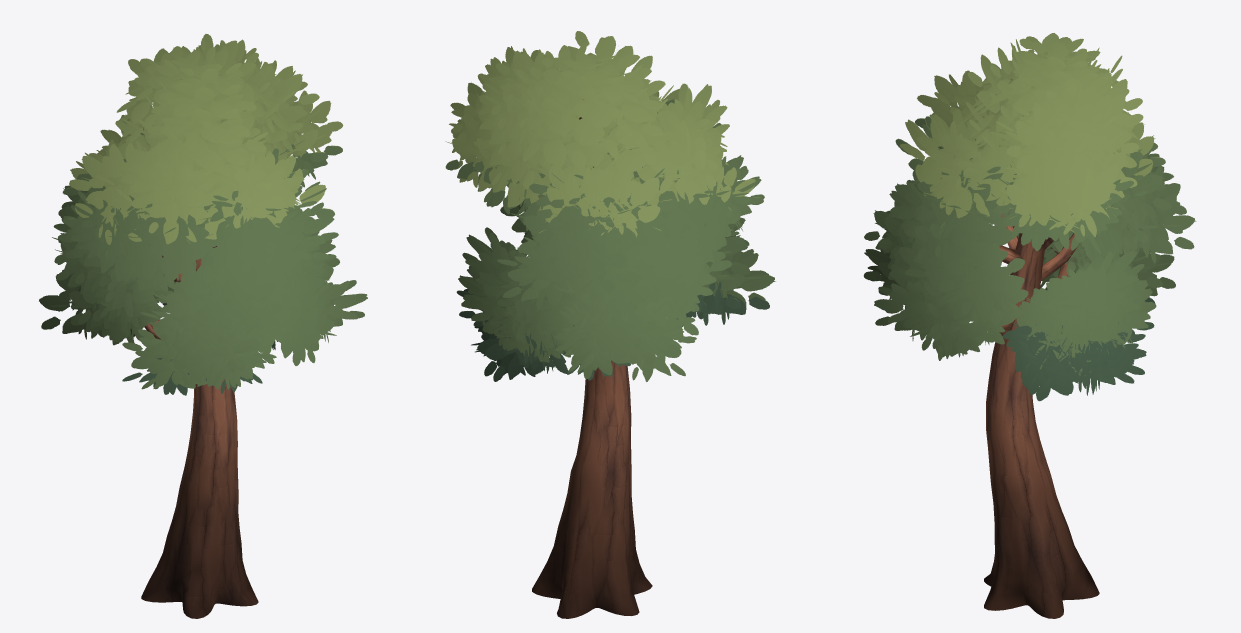
File: broadleaf-open-boughs.glb
The picture shows the model from 3 angles, left to right: view 1: azimuth 30°, elevation 25°; view 2: azimuth 150°, elevation 25°; view 3: azimuth 270°, elevation 25°; orthographic projection. The views are drawn at different scales.
Parts seen in each view (by area): view 1: broadleaf-open-boughs runtime mesh; view 2: broadleaf-open-boughs runtime mesh; view 3: broadleaf-open-boughs runtime mesh.
Boxes of the visible parts, x1,y1,x2,y2 form: broadleaf-open-boughs runtime mesh: (39,34,367,618); broadleaf-open-boughs runtime mesh: (445,31,775,618); broadleaf-open-boughs runtime mesh: (863,33,1196,618).
Size of the model in its own units: 2.85 by 4.8 by 3.02.
2 materials, 2 textured.
